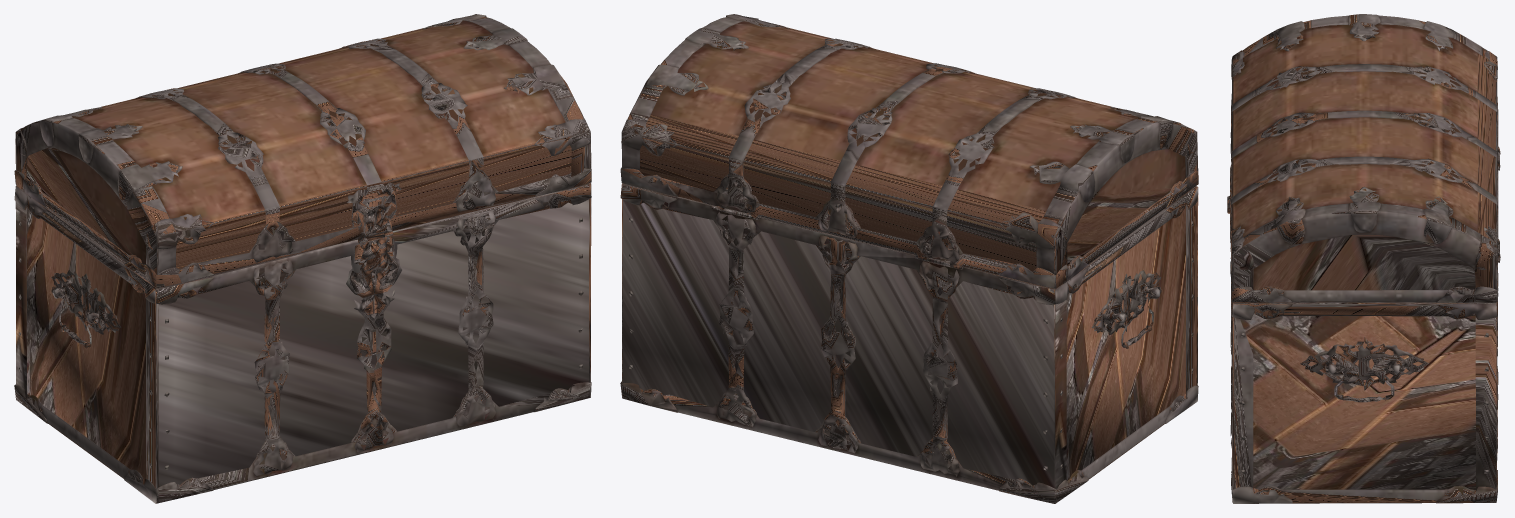
The model's file is treasure_chest_lod1.glb.
3 renders of one model, left to right at view 1: azimuth 30°, elevation 25°; view 2: azimuth 150°, elevation 25°; view 3: azimuth 270°, elevation 25°, orthographic. The views are drawn at different scales.
Parts seen in each view (by area): view 1: treasure_chest_bottom, treasure_chest_lid, treasure_chest_lock; view 2: treasure_chest_bottom, treasure_chest_lid; view 3: treasure_chest_lid, treasure_chest_bottom, treasure_chest_handle_right.
Boxes of the visible parts, bbox=[...] form: treasure_chest_bottom: bbox=[14, 183, 591, 503]; treasure_chest_lid: bbox=[14, 14, 591, 288]; treasure_chest_lock: bbox=[349, 234, 399, 322]; treasure_chest_bottom: bbox=[620, 183, 1198, 503]; treasure_chest_lid: bbox=[620, 14, 1198, 288]; treasure_chest_lid: bbox=[1227, 14, 1500, 303]; treasure_chest_bottom: bbox=[1230, 153, 1500, 503]; treasure_chest_handle_right: bbox=[1322, 365, 1406, 402].
Bounding box in the file's own units: 0.957 × 0.6188 × 0.5222.
Materials: 1 (1 with a texture image).
